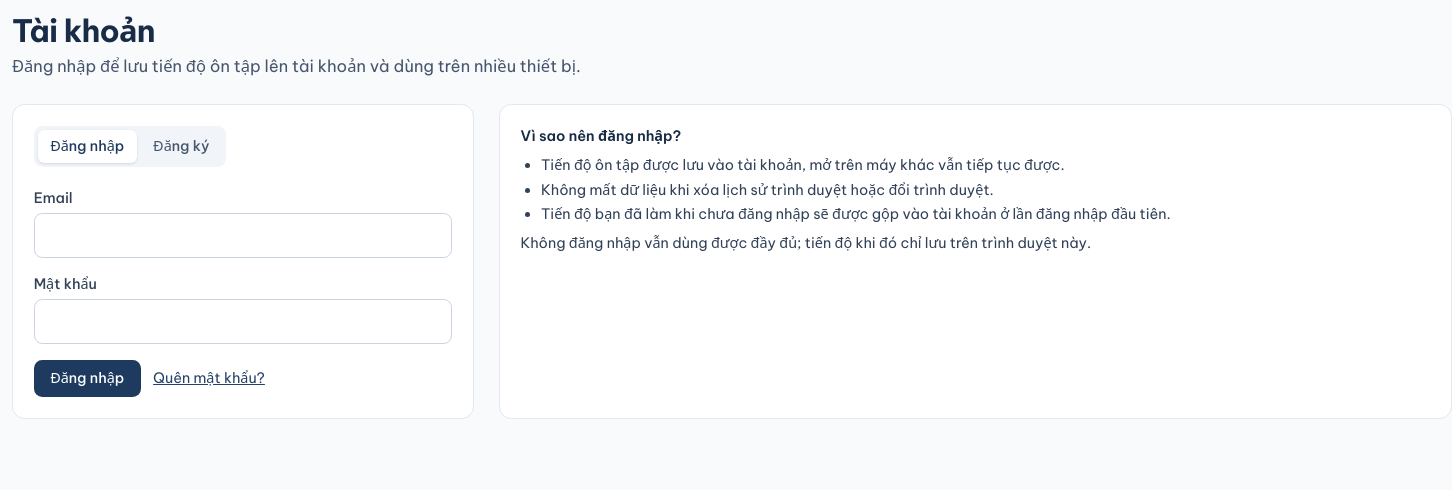
it: AccountPage › signs in and shows a Vietnamese error for wrong credentials
Type " an@ueh.edu.vn " into the field labelled "Email" at x=243, y=235, box [34,213,452,258]
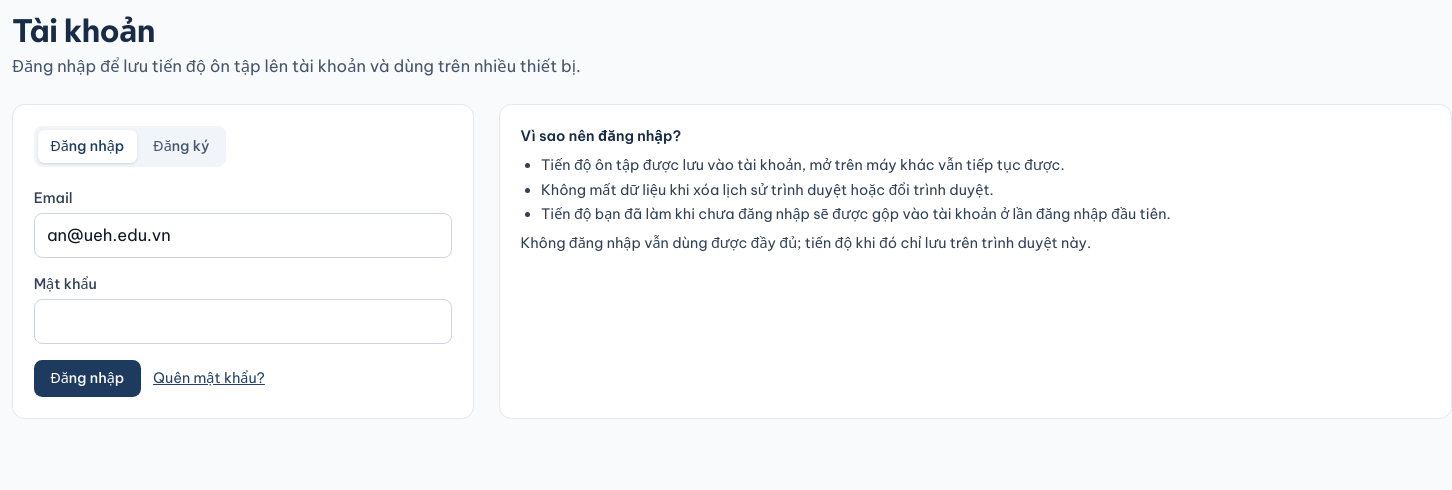
Type "secret123" into the password field labelled "Mật khẩu" at x=243, y=321, box [34,299,452,344]
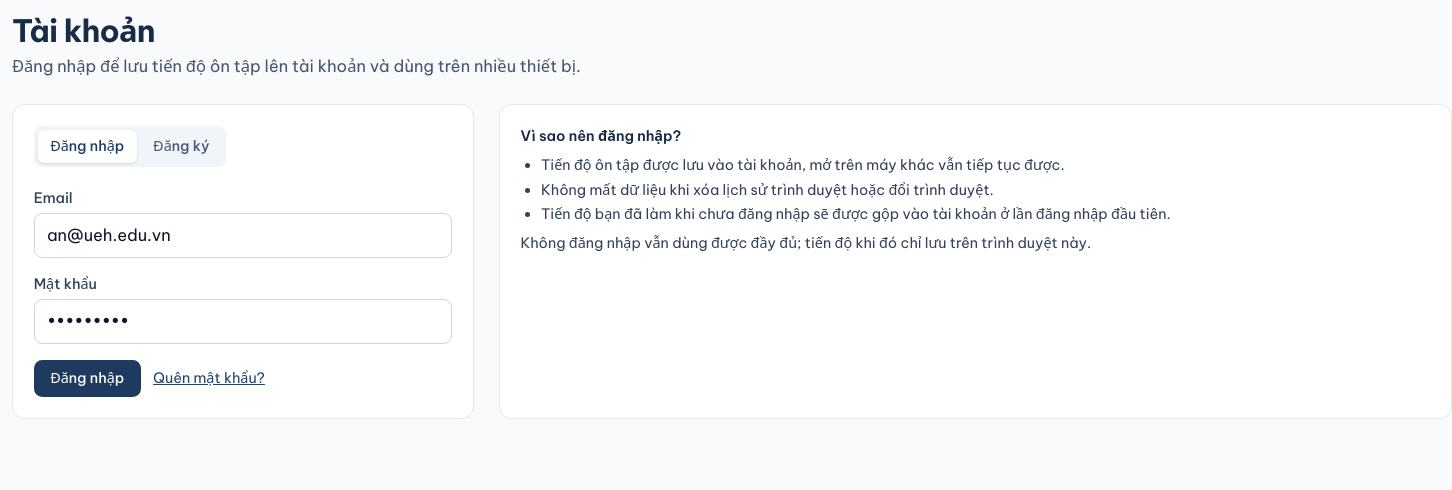
Click the button "Đăng nhập" at x=87, y=379, box [34,360,141,397]
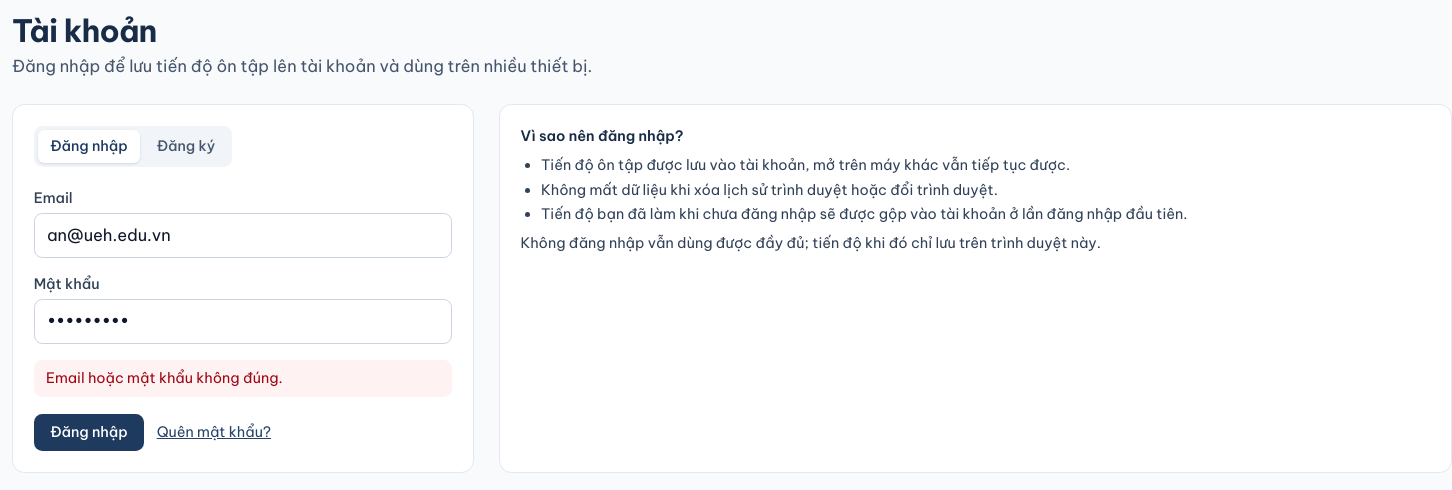
expect the message reads "Email hoặc mật khẩu không đúng.": met, box [46,369,283,387]
